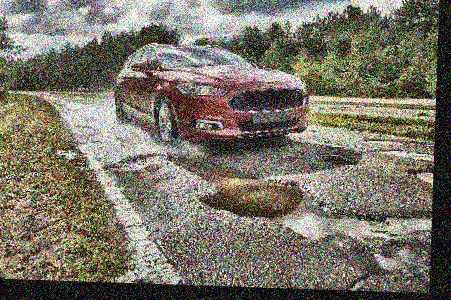pothole: (200, 175, 329, 222), (378, 147, 434, 162), (319, 151, 359, 165), (407, 167, 434, 184)
